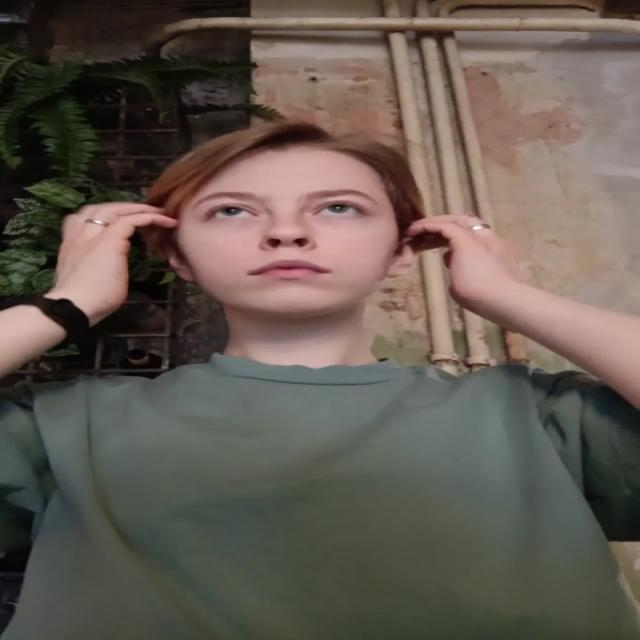earlobe: (164, 243, 197, 283), (386, 237, 416, 278)
